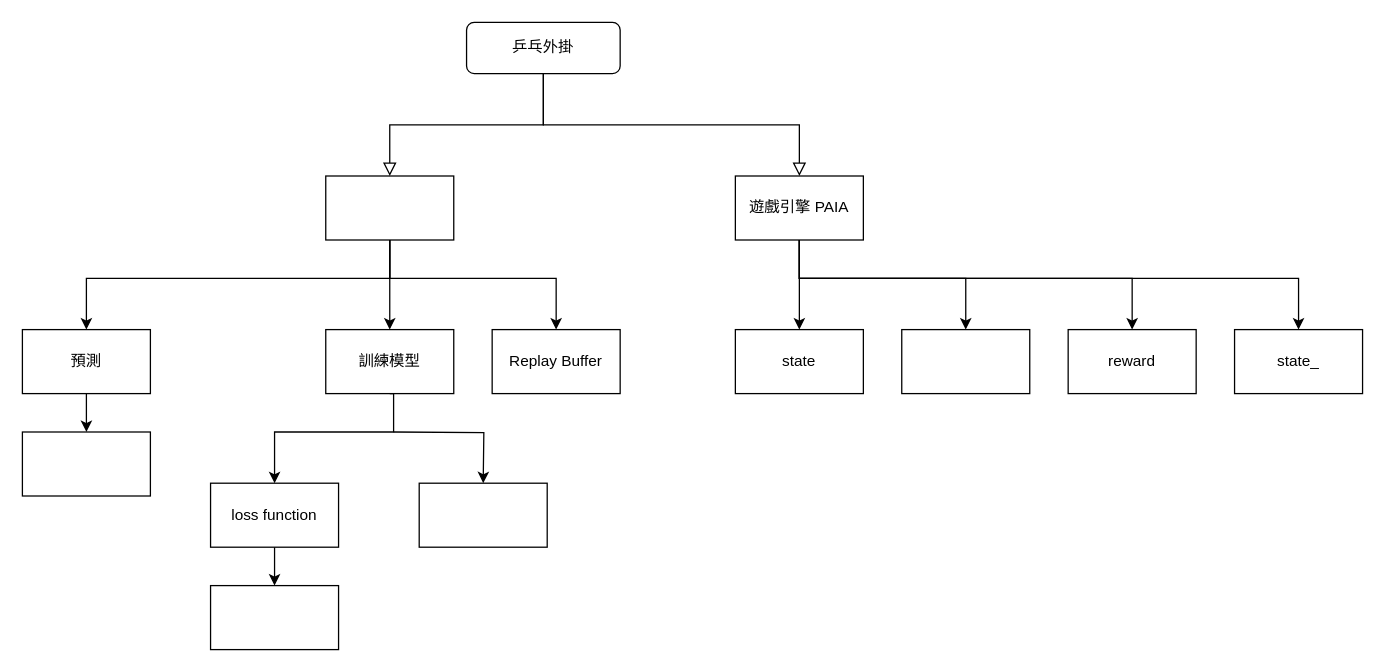
The diagram is 1385 pixels wide and 672 high, and some of its shapes have lost their labels. The shapes that lost their labels are listed below. From the top down, each one's centre as x and y in pixels, then its label:
At (x=389, y=207): "外掛AI (DQN))".
At (x=965, y=361): "action".
At (x=85, y=463): "Qnet".
At (x=482, y=514): "讀取 Replay Buffer".
At (x=274, y=617): "更新Qnet".
